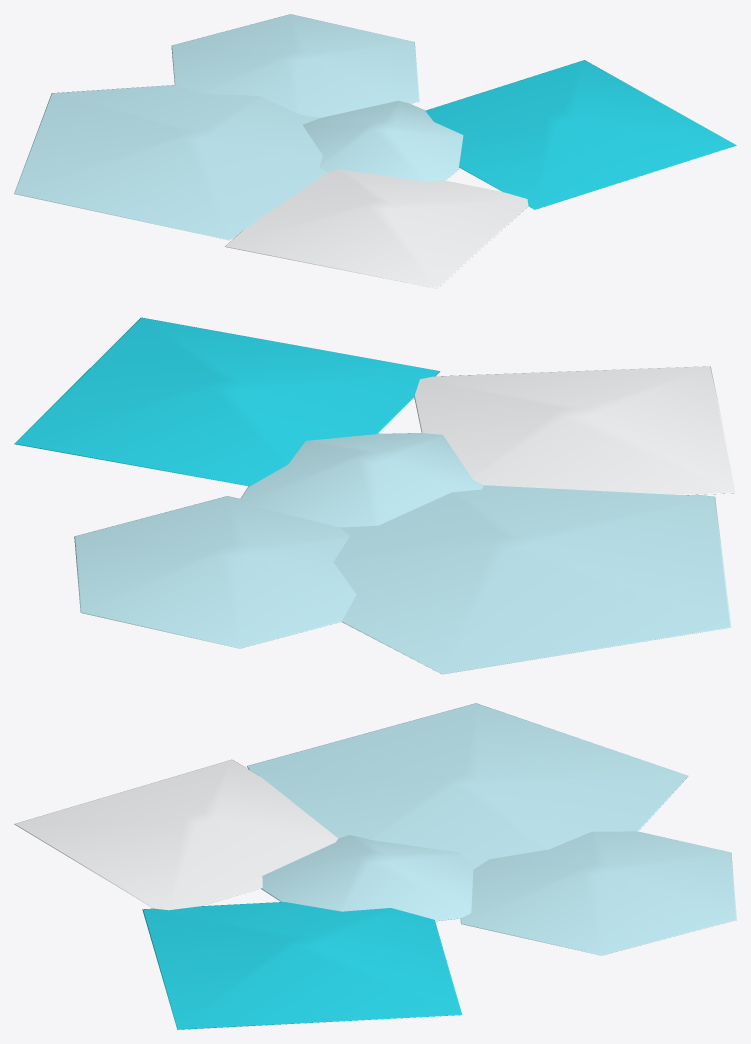
The model's file is SM_ShatteredGlass.fbx.
3 renders of one model, top to bottom at view 1: azimuth 30°, elevation 25°; view 2: azimuth 150°, elevation 25°; view 3: azimuth 270°, elevation 25°, orthographic. The views are drawn at different scales.
Parts seen in each view (by area): view 1: SM_ShatteredGlass; view 2: SM_ShatteredGlass; view 3: SM_ShatteredGlass.
Part boxes in pixels (left/top/right/bottom): SM_ShatteredGlass: left=14, top=14, right=736, bottom=288; SM_ShatteredGlass: left=14, top=317, right=736, bottom=674; SM_ShatteredGlass: left=14, top=703, right=736, bottom=1029.
Bounding box in the file's own units: 60.62 × 2.07 × 56.59.
